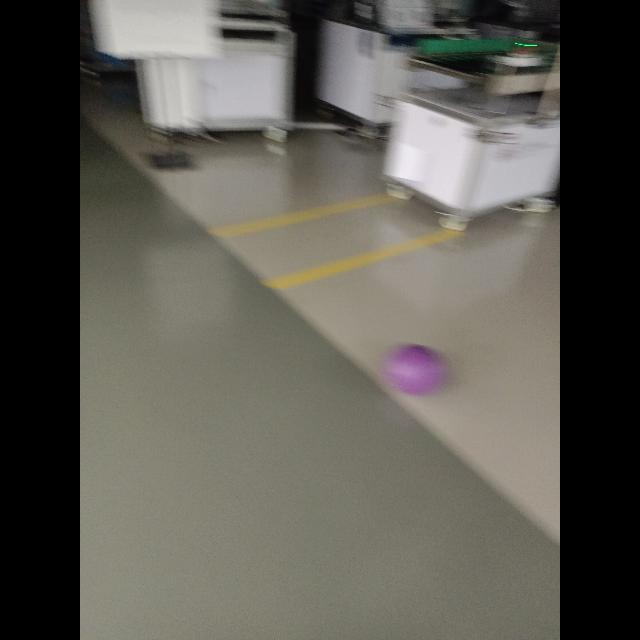P: (384, 340, 452, 400)
